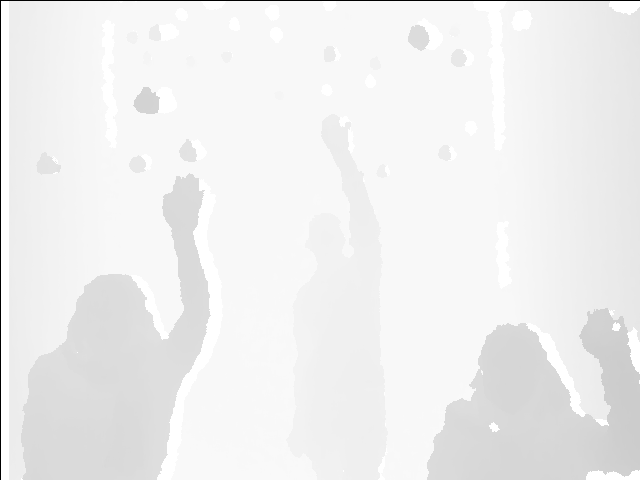hand: (160, 171, 209, 230), (316, 111, 357, 164)
